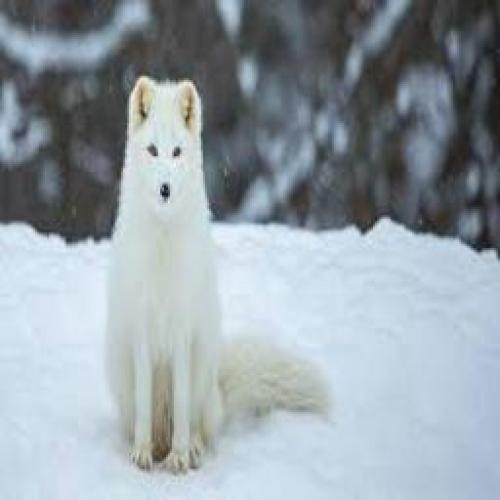arctic_fox-endangered: (105, 74, 329, 472)
